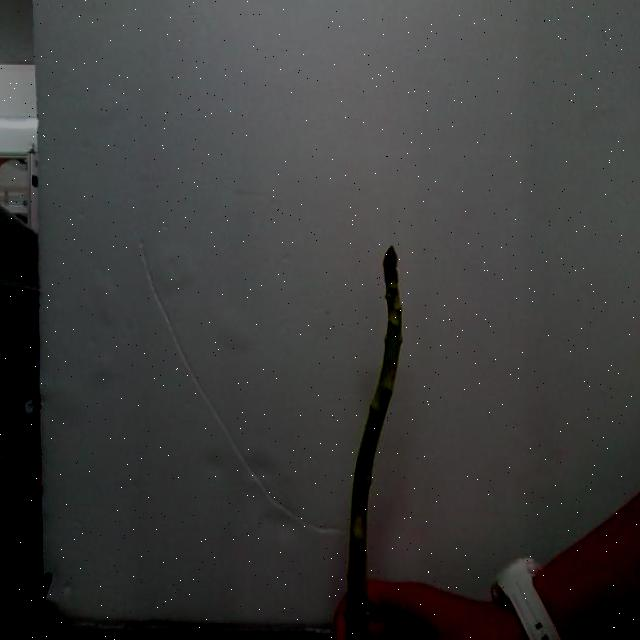aspargus: (346, 248, 402, 640)
